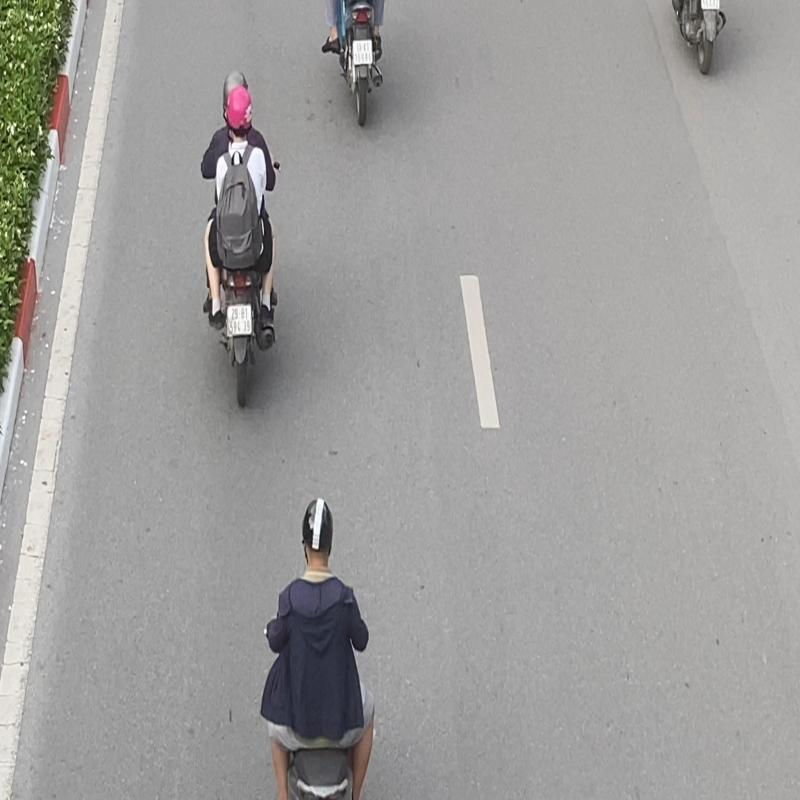helmet: (226, 84, 252, 130), (224, 71, 248, 112)
licenseplate: (228, 305, 252, 334)
motorcyclist: (198, 66, 284, 413)
